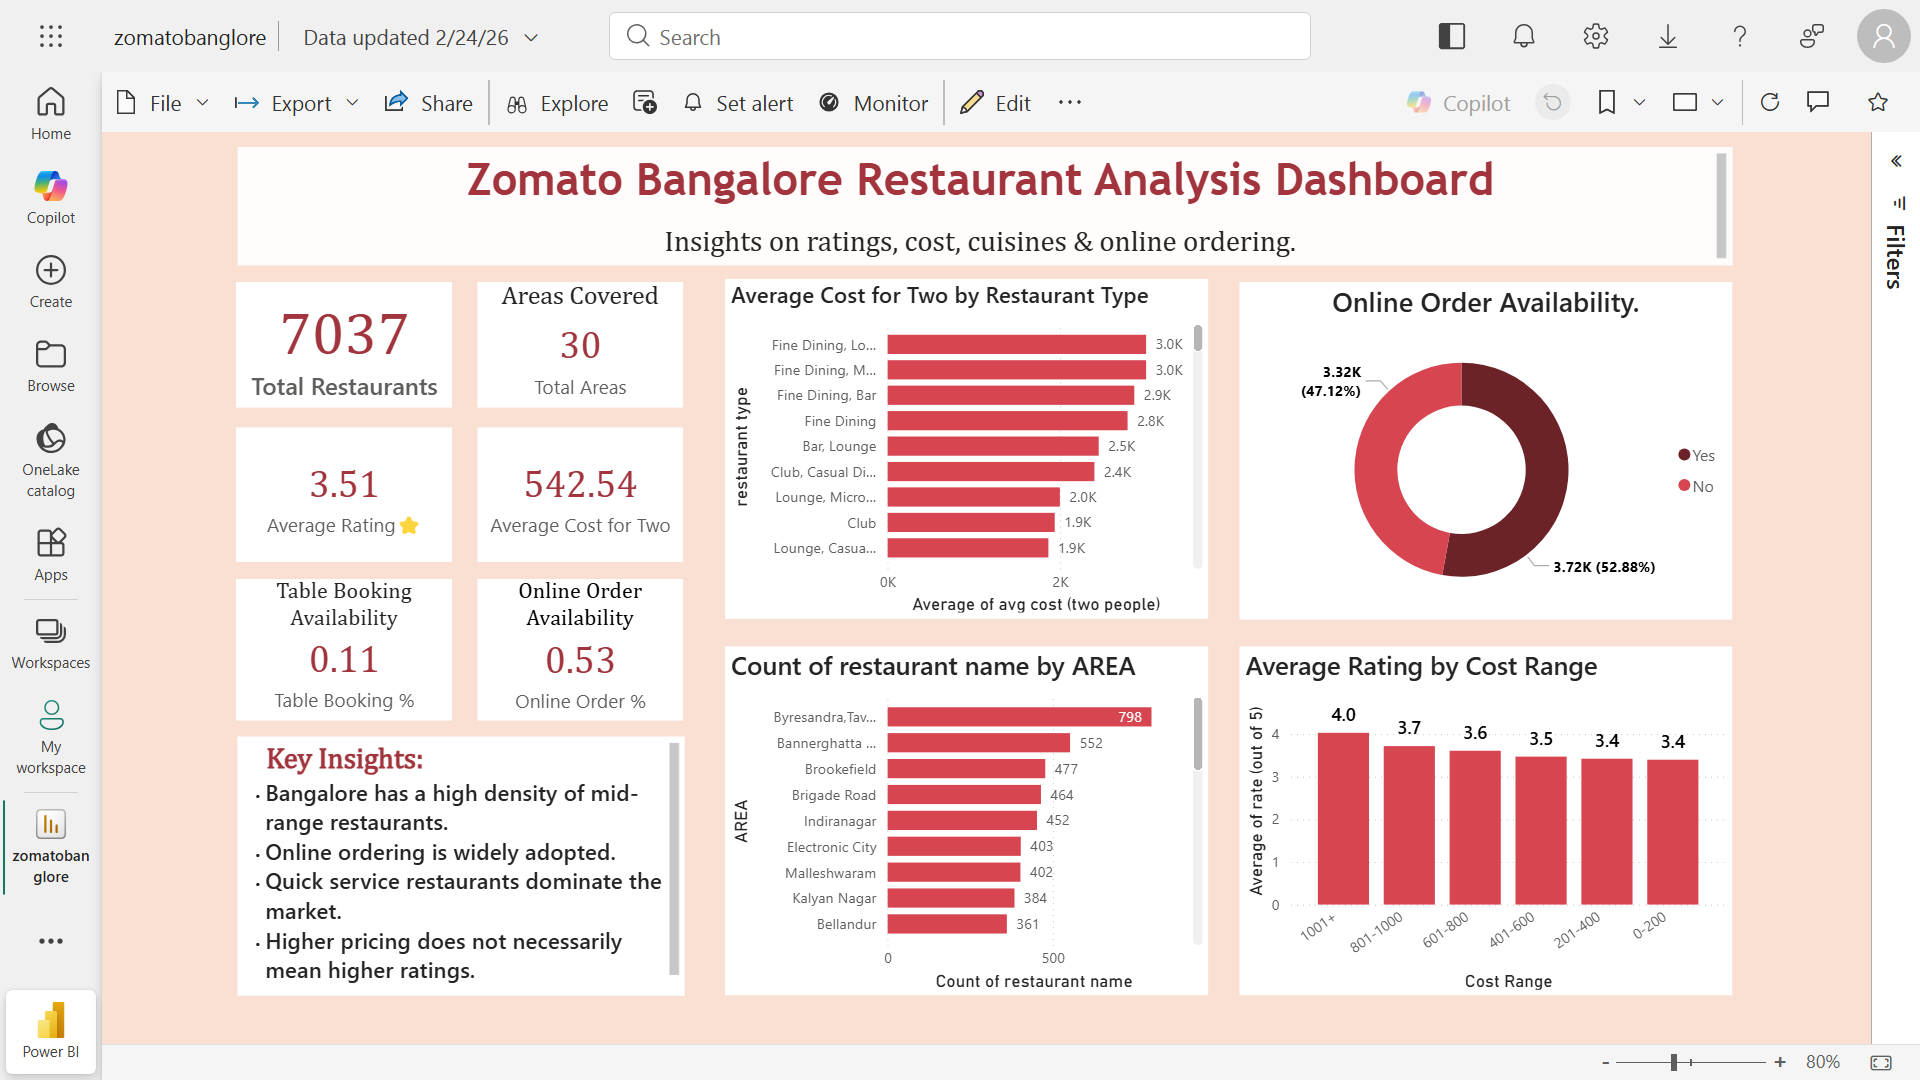

Layout of this report page (visuals, bound fields, positions):
{"tool":"powerbi","page":{"name":"Page 1","canvas":[1280,720],"ordinal":0},"visuals":[{"type":"card","fields":{"Values":["zomato_data.Total Restaurants"]},"box":[15.1,112.1,180.2,104.5],"z":0},{"type":"card","fields":{"Values":["zomato_data.Average Rating"]},"box":[15.1,233.2,180.2,112.1],"z":1000},{"type":"card","fields":{"Values":["zomato_data.Average Cost for Two"]},"box":[216.5,233.2,171.1,112.1],"z":2000},{"type":"card","title":"Areas Covered","fields":{"Values":["zomato_data.Total Areas"]},"box":[216.5,112.1,171.1,104.5],"z":3000},{"type":"card","title":"Online Order Availability","fields":{"Values":["zomato_data.Online Order %"]},"box":[216.5,360.4,171.1,118.1],"z":4000},{"type":"card","title":"Table Booking Availability","fields":{"Values":["zomato_data.Table Booking %"]},"box":[15.1,360.4,180.2,118.1],"z":5000},{"type":"textbox","box":[15.7,0,1245.7,98.6],"z":6000},{"type":"clusteredBarChart","title":"Count of restaurant name by AREA","fields":{"Category":["zomato_data.area"],"Y":["CountNonNull(zomato_data.restaurant name)"]},"box":[422.5,416.4,402.8,290.7],"z":7000},{"type":"clusteredBarChart","title":"Average Cost for Two by Restaurant Type","fields":{"Category":["zomato_data.restaurant type"],"Y":["Avg(zomato_data.avg cost (two people))","select"]},"box":[422.5,110.5,402.8,283.2],"z":8000},{"type":"clusteredColumnChart","title":"Average Rating by Cost Range","fields":{"Category":["zomato_data.Cost Range"],"Y":["Avg(zomato_data.rate (out of 5))"]},"box":[851,416.4,410.3,290.7],"z":9000},{"type":"donutChart","title":"Online Order Availability.","fields":{"Category":["zomato_data.online_order"],"Y":["CountNonNull(zomato_data.restaurant name)"]},"box":[851,112.1,410.3,281.6],"z":10000},{"type":"textbox","box":[15.7,491.4,372.9,215.7],"z":11000}]}

Visuals, with their boxes on the page's 1280x720 design canvas (x1, y1, x2, y2). These are canvas units, not pixel positions in the 1920x1080 screenshot, which may show the page scaled, cropped or inside an application window:
card - zomato_data.Total Restaurants: {"x1": 15, "y1": 112, "x2": 195, "y2": 217}
card - zomato_data.Average Rating: {"x1": 15, "y1": 233, "x2": 195, "y2": 345}
card - zomato_data.Average Cost for Two: {"x1": 216, "y1": 233, "x2": 388, "y2": 345}
"Areas Covered" card: {"x1": 216, "y1": 112, "x2": 388, "y2": 217}
"Online Order Availability" card: {"x1": 216, "y1": 360, "x2": 388, "y2": 478}
"Table Booking Availability" card: {"x1": 15, "y1": 360, "x2": 195, "y2": 478}
textbox: {"x1": 16, "y1": 0, "x2": 1261, "y2": 99}
"Count of restaurant name by AREA" clusteredBarChart: {"x1": 422, "y1": 416, "x2": 825, "y2": 707}
"Average Cost for Two by Restaurant Type" clusteredBarChart: {"x1": 422, "y1": 110, "x2": 825, "y2": 394}
"Average Rating by Cost Range" clusteredColumnChart: {"x1": 851, "y1": 416, "x2": 1261, "y2": 707}
"Online Order Availability." donutChart: {"x1": 851, "y1": 112, "x2": 1261, "y2": 394}
textbox: {"x1": 16, "y1": 491, "x2": 389, "y2": 707}
